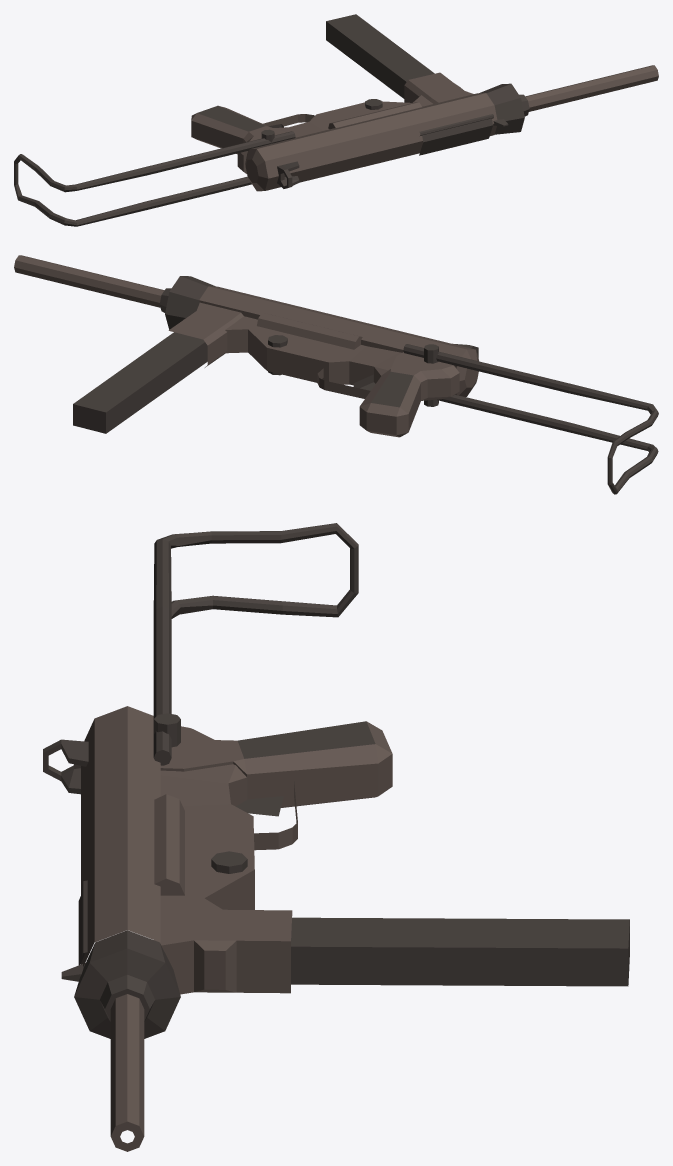
The model's file is Greasegun_3D.glb.
3 renders of one model, top to bottom at view 1: azimuth 30°, elevation 25°; view 2: azimuth 150°, elevation 25°; view 3: azimuth 270°, elevation 25°, orthographic. The views are drawn at different scales.
Visible parts, largest first — view 1: GreaseGunLowPoly; view 2: GreaseGunLowPoly; view 3: GreaseGunLowPoly.
Part boxes in pixels (left/top/right/bottom): GreaseGunLowPoly: left=14, top=14, right=658, bottom=226; GreaseGunLowPoly: left=14, top=255, right=658, bottom=494; GreaseGunLowPoly: left=43, top=523, right=629, bottom=1151.
Size of the model in its own units: 0.9343 by 0.0766 by 0.4059.
1 material, 1 textured.
